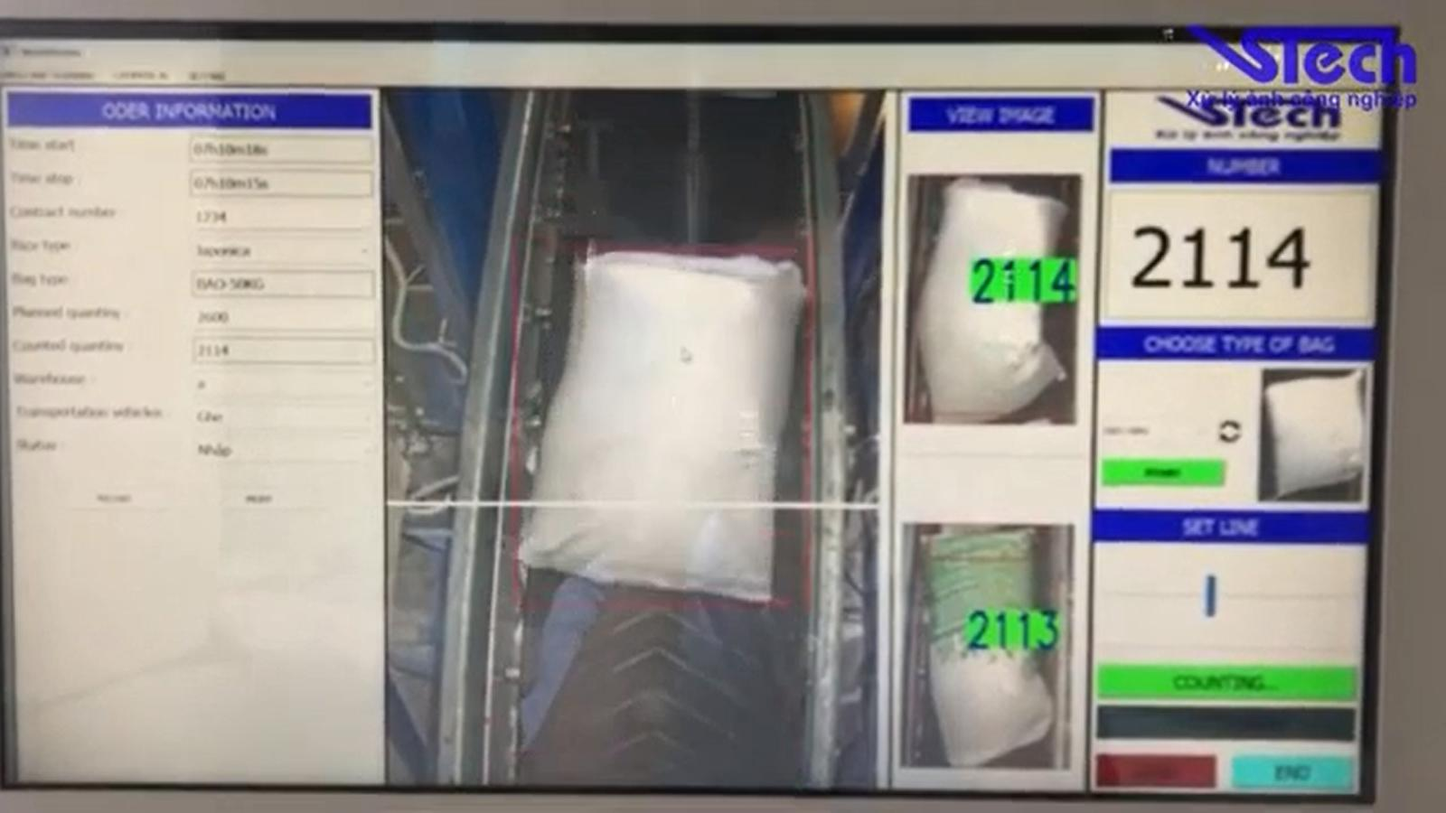rice-bag: (521, 252, 803, 602), (915, 178, 1065, 422), (925, 527, 1052, 766)
